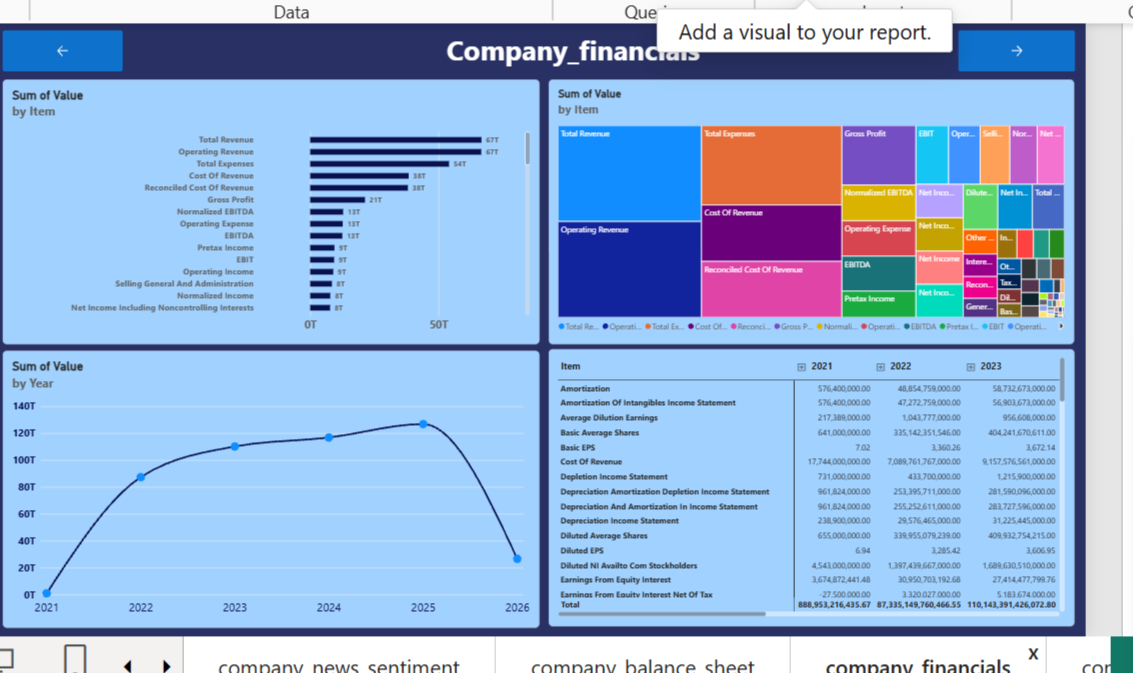

What the dashboard file says about the page in this screenshot:
{"tool":"powerbi","page":{"name":"company_financials","canvas":[1920,1080],"ordinal":4},"visuals":[{"type":"textbox","box":[430.7,12.7,1172.7,72.4],"z":0},{"type":"actionButton","box":[12.7,12.7,211.7,72.4],"z":1000},{"type":"actionButton","box":[1695.7,12.7,206.3,72.4],"z":2000},{"type":"clusteredBarChart","fields":{"Category":["04_company_financials.Item"],"Y":["Sum(04_company_financials.Value)"]},"box":[12.7,97.7,946.5,466.9],"z":3000},{"type":"lineChart","fields":{"Category":["04_company_financials.Period.Variation.Date Hierarchy.Year","04_company_financials.Period.Variation.Date Hierarchy.Quarter","04_company_financials.Period.Variation.Date Hierarchy.Month","04_company_financials.Period.Variation.Date Hierarchy.Day"],"Y":["Sum(04_company_financials.Value)"]},"box":[12.7,575.5,946.5,488.6],"z":4000},{"type":"treemap","fields":{"Group":["04_company_financials.Item"],"Values":["Sum(04_company_financials.Value)"]},"box":[975.4,97.7,926.5,466.9],"z":5000},{"type":"pivotTable","fields":{"Columns":["04_company_financials.Period.Variation.Date Hierarchy.Year","04_company_financials.Period.Variation.Date Hierarchy.Quarter","04_company_financials.Period.Variation.Date Hierarchy.Month","04_company_financials.Period.Variation.Date Hierarchy.Day"],"Rows":["04_company_financials.Item"],"Values":["Sum(04_company_financials.Value)"]},"box":[975,575,927,489],"z":6000}]}

Visuals, with their boxes on the page's 1920x1080 design canvas (x1, y1, x2, y2). These are canvas units, not pixel positions in the 1133x673 screenshot, which may show the page scaled, cropped or inside an application window:
textbox: box=[431, 13, 1603, 85]
actionButton: box=[13, 13, 224, 85]
actionButton: box=[1696, 13, 1902, 85]
clusteredBarChart - 04_company_financials.Item x Sum(04_company_financials.Value): box=[13, 98, 959, 565]
lineChart - 04_company_financials.Period.Variation.Date Hierarchy.Year x 04_company_financials.Period.Variation.Date Hierarchy.Quarter: box=[13, 576, 959, 1064]
treemap - 04_company_financials.Item x Sum(04_company_financials.Value): box=[975, 98, 1902, 565]
pivotTable - 04_company_financials.Period.Variation.Date Hierarchy.Year x 04_company_financials.Period.Variation.Date Hierarchy.Quarter: box=[975, 575, 1902, 1064]
